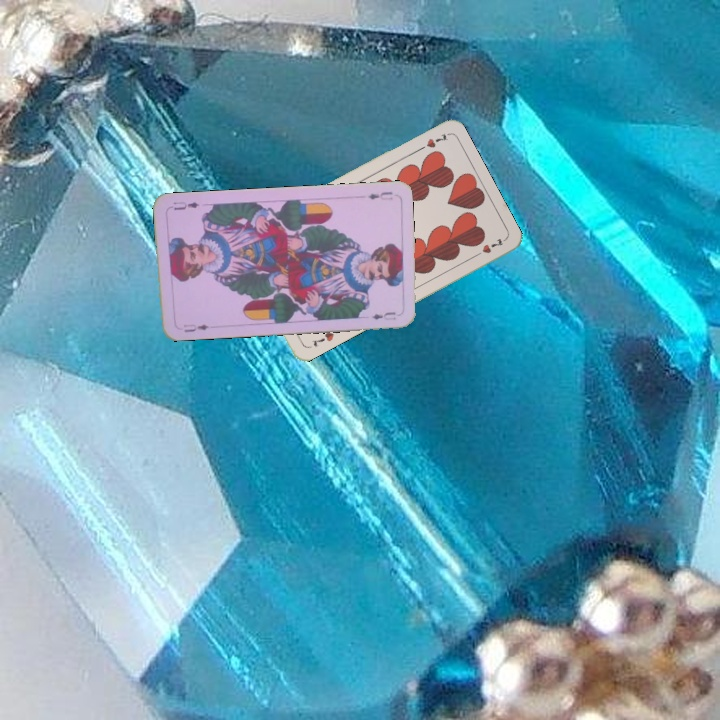EU: (180, 320, 211, 335), (364, 188, 395, 203)
H7: (413, 129, 451, 154), (308, 328, 337, 350)
